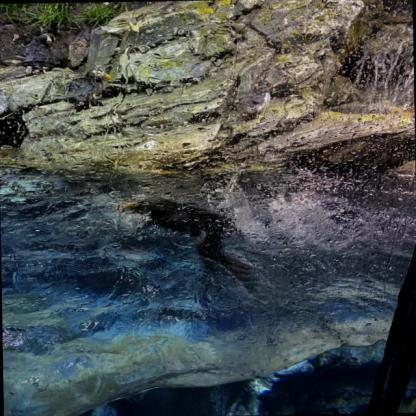puffin: (122, 195, 264, 296), (58, 66, 112, 110), (21, 32, 60, 73)
